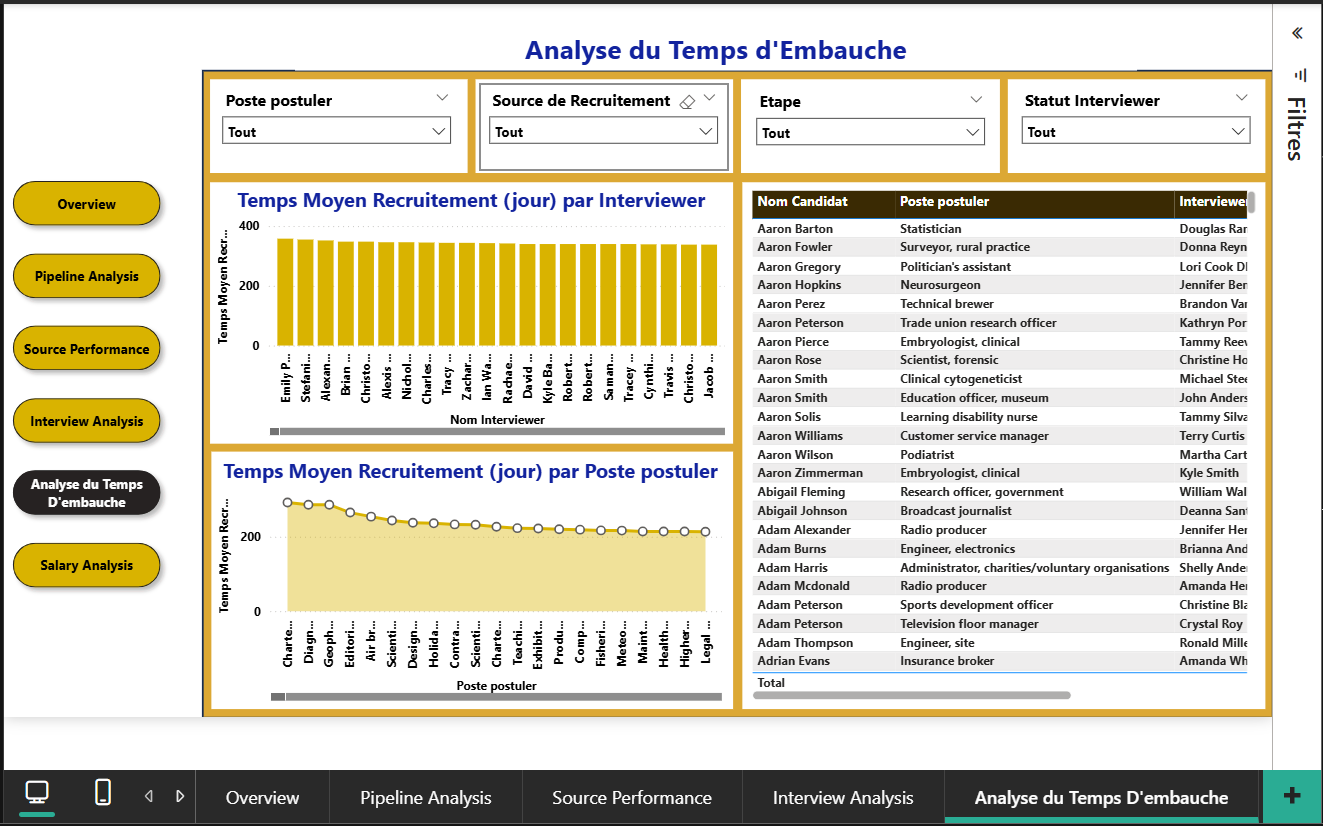

Layout of this report page (visuals, bound fields, positions):
{"tool":"powerbi","page":{"name":"Analyse du Temps D'embauche","canvas":[1280,720],"ordinal":4},"visuals":[{"type":"clusteredColumnChart","title":"Temps Moyen Recruitement (jour) par Interviewer","fields":{"Category":["Sheet1.Nom Interviewer"],"Y":["Mesures.Temps Moyen Recruitement (jour)"]},"box":[210.9,183.7,522.4,257.2],"z":0},{"type":"slicer","fields":{"Values":["Sheet1.Poste postuler"]},"box":[210.9,79.9,250.8,87.9],"z":1000},{"type":"slicer","fields":{"Values":["Sheet1.Source de Recruitement"]},"box":[479.8,79.9,250.8,87.9],"z":2000},{"type":"slicer","fields":{"Values":["Sheet1.Etape"]},"box":[748.8,81.5,250.8,87.9],"z":3000},{"type":"slicer","fields":{"Values":["Sheet1.Statut Interviewer"]},"box":[1017.7,79.9,250.8,87.9],"z":4000},{"type":"tableEx","fields":{"Values":["Sheet1.Nom Candidat","Sheet1.Poste postuler","Sheet1.Nom Interviewer","Mesures.Temps Moyen Recruitement (jour)"]},"box":[749.3,183.7,519.2,524],"z":5000},{"type":"areaChart","fields":{"Category":["Sheet1.Poste postuler"],"Y":["Mesures.Temps Moyen Recruitement (jour)"]},"box":[212.5,456.9,517.6,250.8],"z":6000},{"type":"pageNavigator","box":[0,169.4,167.8,432],"z":6001},{"type":"textbox","box":[294,20.8,850,46.3],"z":6002}]}

Visuals, with their boxes on the page's 1280x720 design canvas (x1, y1, x2, y2). These are canvas units, not pixel positions in the 1323x826 screenshot, which may show the page scaled, cropped or inside an application window:
"Temps Moyen Recruitement (jour) par Interviewer" clusteredColumnChart: 211,184,733,441
slicer - Sheet1.Poste postuler: 211,80,462,168
slicer - Sheet1.Source de Recruitement: 480,80,731,168
slicer - Sheet1.Etape: 749,82,1000,169
slicer - Sheet1.Statut Interviewer: 1018,80,1268,168
tableEx - Sheet1.Nom Candidat x Sheet1.Poste postuler: 749,184,1268,708
areaChart - Sheet1.Poste postuler x Mesures.Temps Moyen Recruitement (jour): 212,457,730,708
pageNavigator: 0,169,168,601
textbox: 294,21,1144,67
